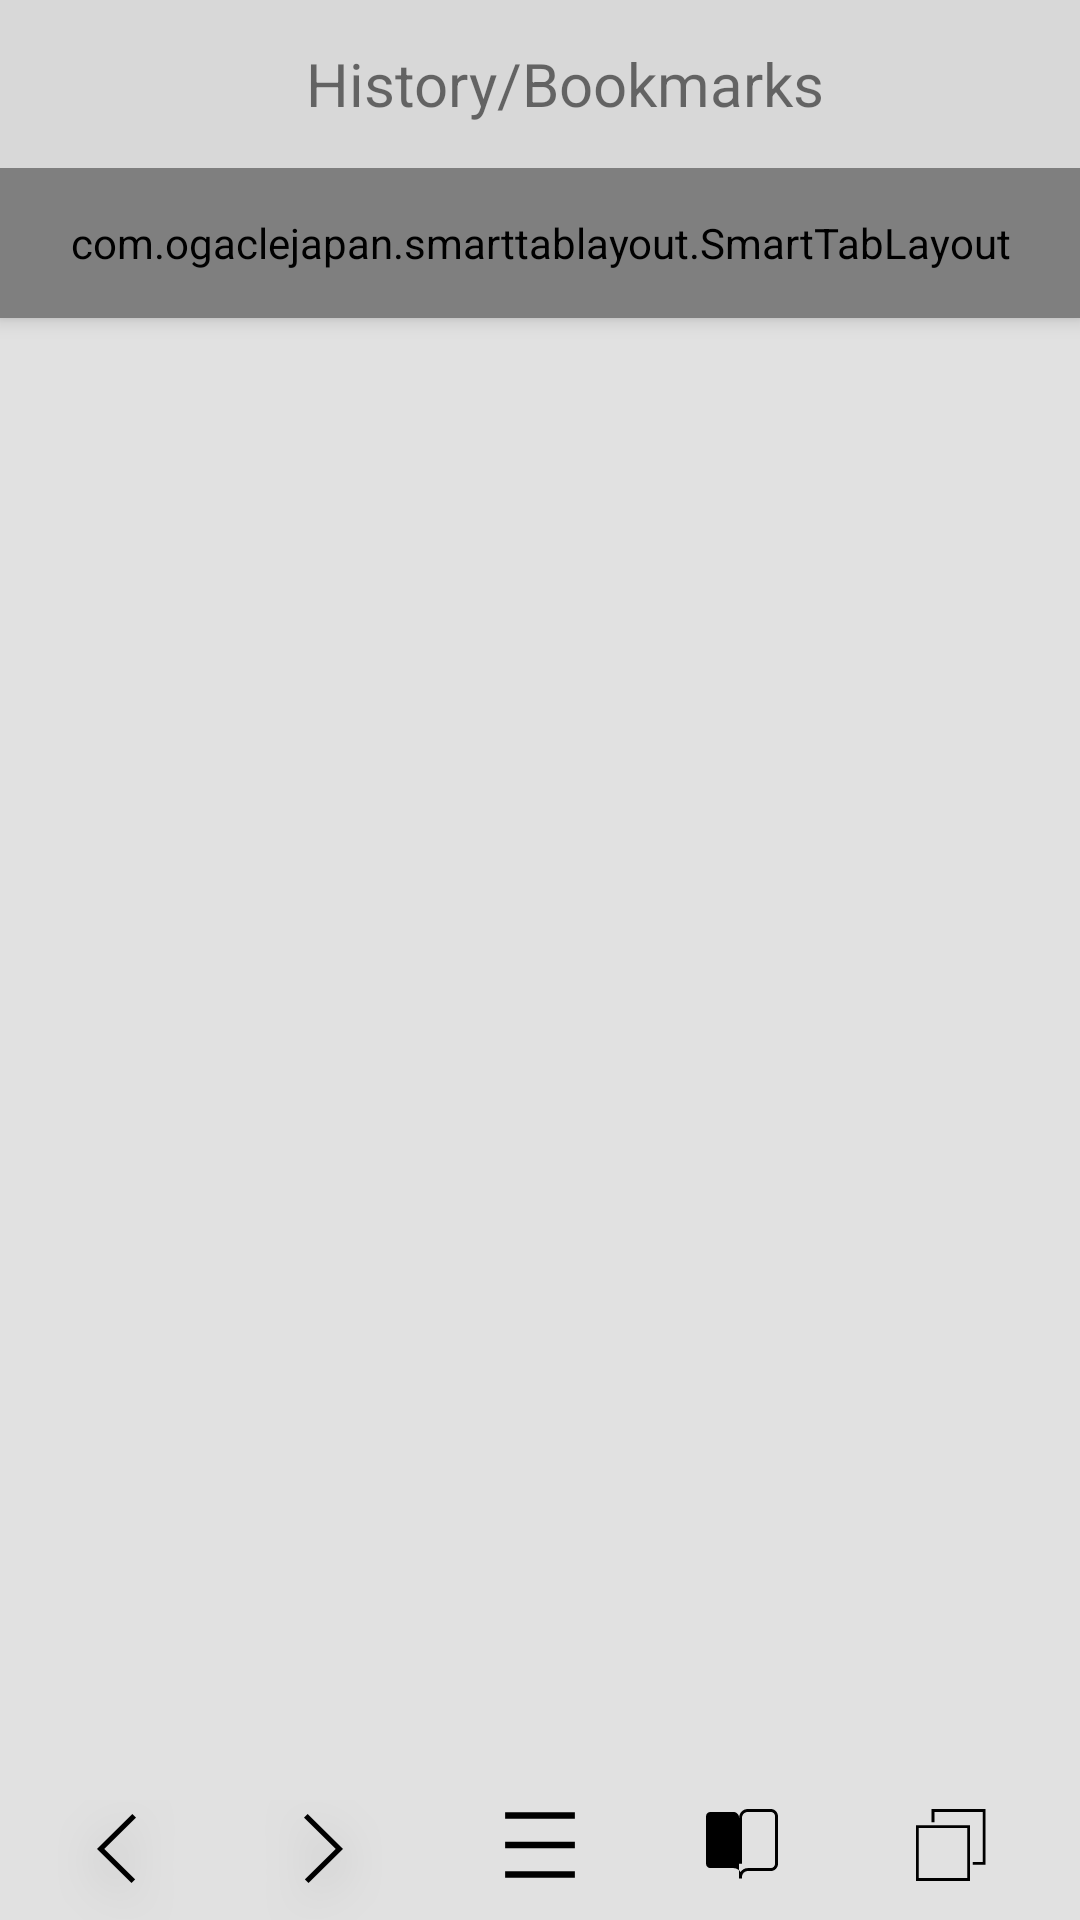

Point at icon controls on the screen. Image size 1080px×1920px, points as (x=x, y=y).
back: (x=116, y=1848)
bookmark: (x=742, y=1844)
forward: (x=323, y=1848)
tabs: (x=951, y=1845)
